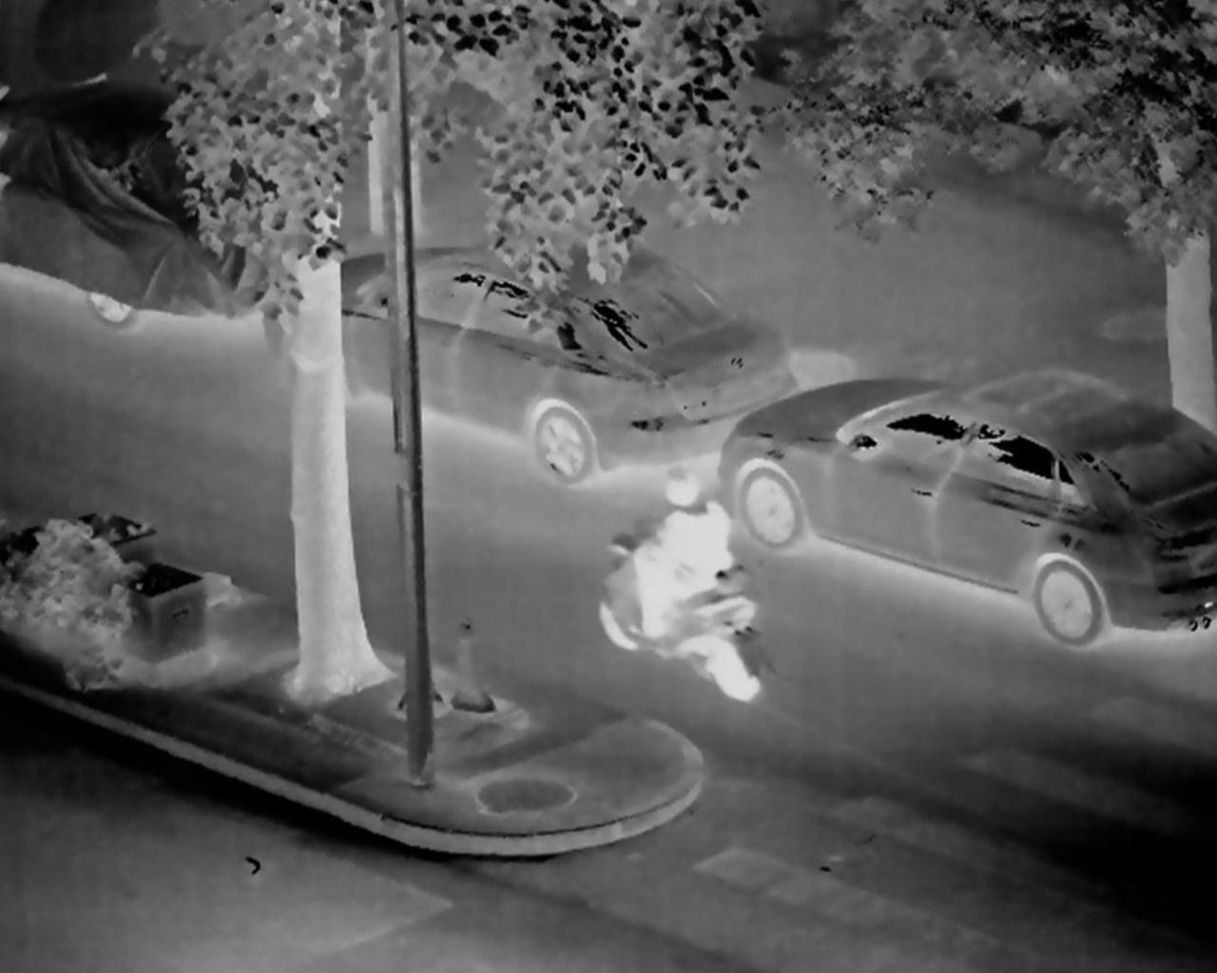person: (586, 457, 751, 681)
